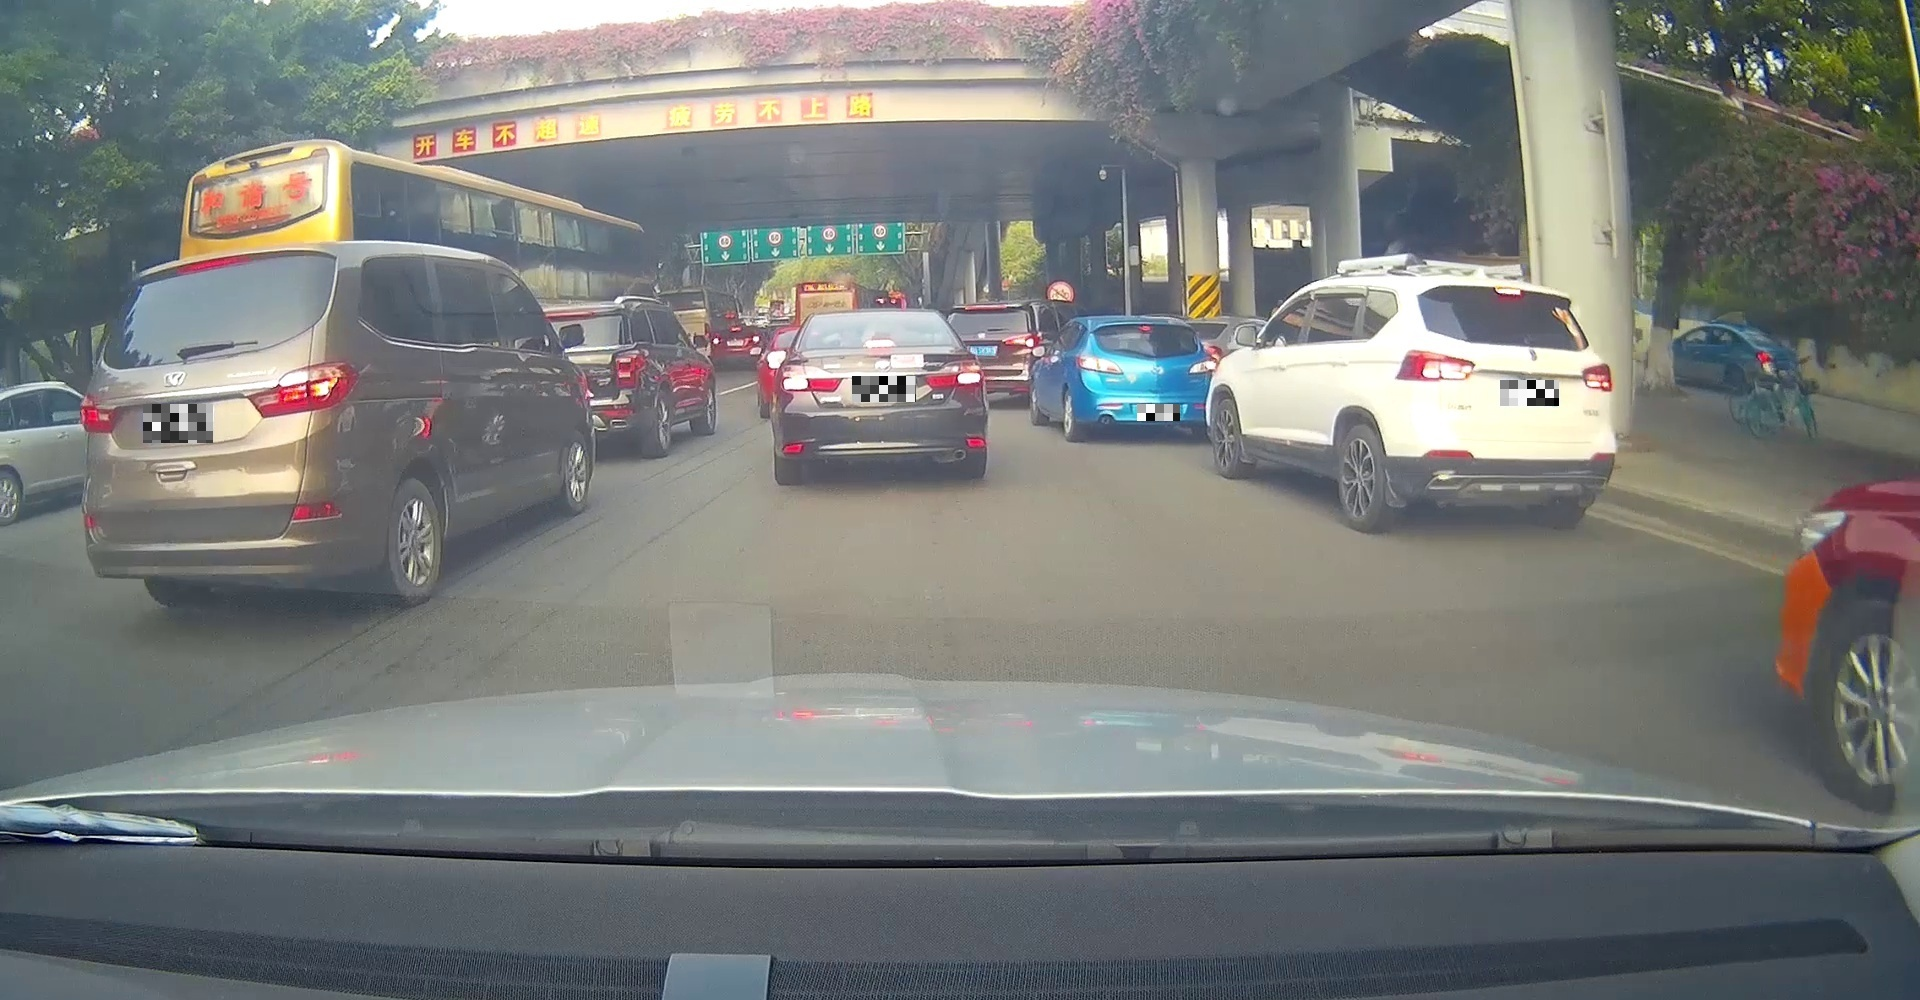L_light: (1396, 352, 1476, 383), (780, 365, 843, 393), (81, 393, 116, 435), (1076, 355, 1125, 376), (712, 338, 723, 346)
R_light: (245, 359, 361, 420), (923, 359, 985, 390), (1582, 363, 1611, 393), (1189, 357, 1219, 376), (752, 335, 761, 344)
T_light: (175, 253, 249, 275), (1492, 286, 1524, 298), (862, 339, 897, 349), (1137, 324, 1153, 332), (729, 326, 743, 332)
day-brake: (1390, 278, 1618, 532), (773, 308, 989, 484), (1070, 317, 1222, 435), (711, 324, 764, 367)
day-right: (77, 239, 376, 610)
plate_1: (143, 404, 213, 443)
plate_2: (852, 376, 916, 402)
plate_3: (1137, 404, 1180, 421)
plate_4: (1500, 379, 1559, 406)
